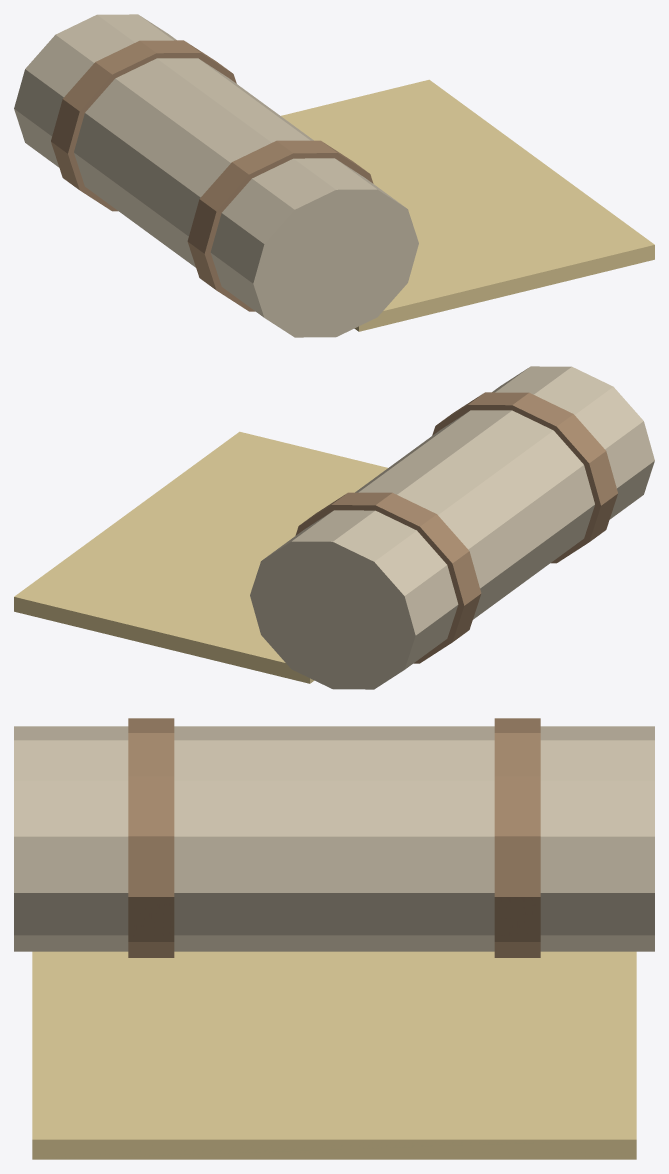
Rendered from prop-bedroll-cp1.fbx.
3 views of the same model, one above another, from view 1: azimuth 30°, elevation 25°; view 2: azimuth 150°, elevation 25°; view 3: azimuth 270°, elevation 25° (orthographic). The views are drawn at different scales.
Visible parts, largest first — view 1: prop-bedroll-cp1; view 2: prop-bedroll-cp1; view 3: prop-bedroll-cp1.
Boxes of the visible parts, bbox=[...] form: prop-bedroll-cp1: bbox=[14, 14, 654, 337]; prop-bedroll-cp1: bbox=[14, 366, 654, 689]; prop-bedroll-cp1: bbox=[14, 718, 654, 1159].
Bounding box in the file's own units: 0.7 × 0.2575 × 0.7.
